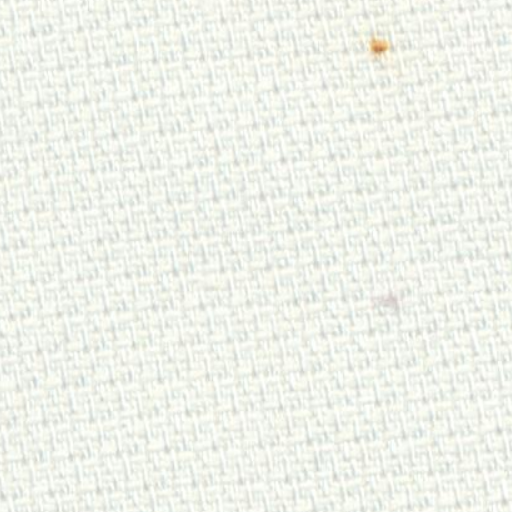WuZi: (349, 22, 408, 71), (368, 270, 414, 323)
